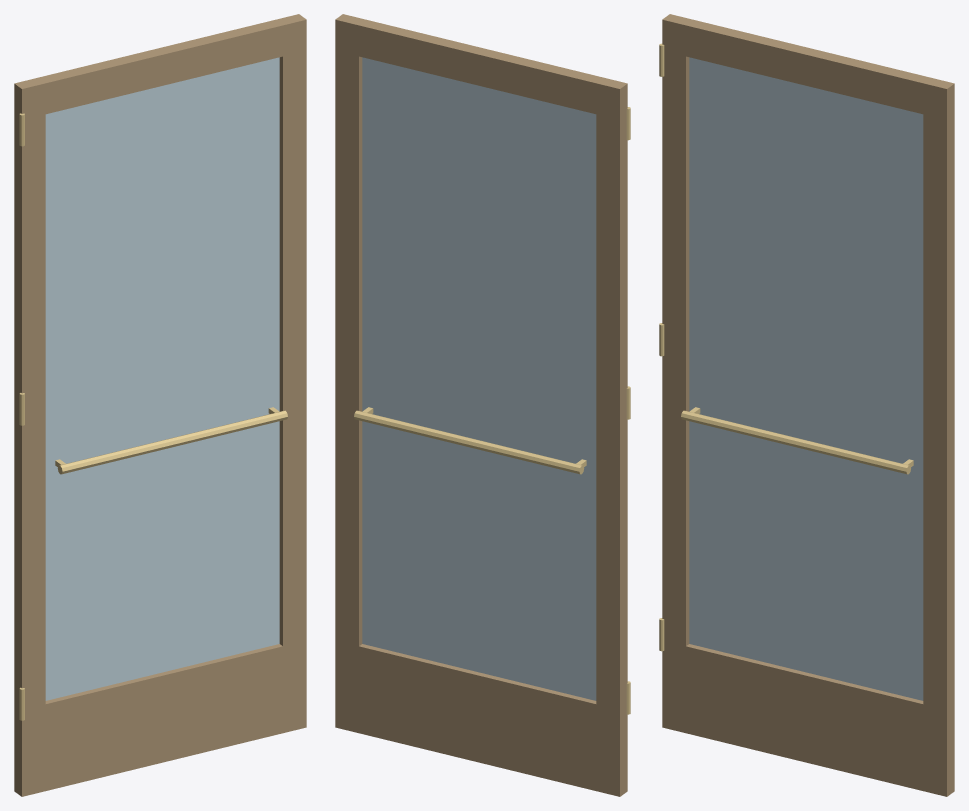
The model's file is door_leaf_street.glb.
The picture shows the model from 3 angles, left to right: view 1: azimuth 30°, elevation 25°; view 2: azimuth 150°, elevation 25°; view 3: azimuth 330°, elevation 25°; orthographic projection.
Visible parts, largest first — view 1: door_leaf_street_glass, door_leaf_street_bronze, door_leaf_street_gold; view 2: door_leaf_street_glass, door_leaf_street_bronze, door_leaf_street_gold; view 3: door_leaf_street_glass, door_leaf_street_bronze, door_leaf_street_gold.
Part boxes in pixels (x1,y1,x2,y2): door_leaf_street_glass: (45,57,279,700); door_leaf_street_bronze: (14,14,306,796); door_leaf_street_gold: (19,113,287,720); door_leaf_street_glass: (362,57,596,700); door_leaf_street_bronze: (335,14,627,796); door_leaf_street_gold: (354,107,630,714); door_leaf_street_glass: (689,57,923,700); door_leaf_street_bronze: (662,14,954,796); door_leaf_street_gold: (659,43,913,651).
Size of the model in its own units: 0.968 by 2.28 by 0.173.
